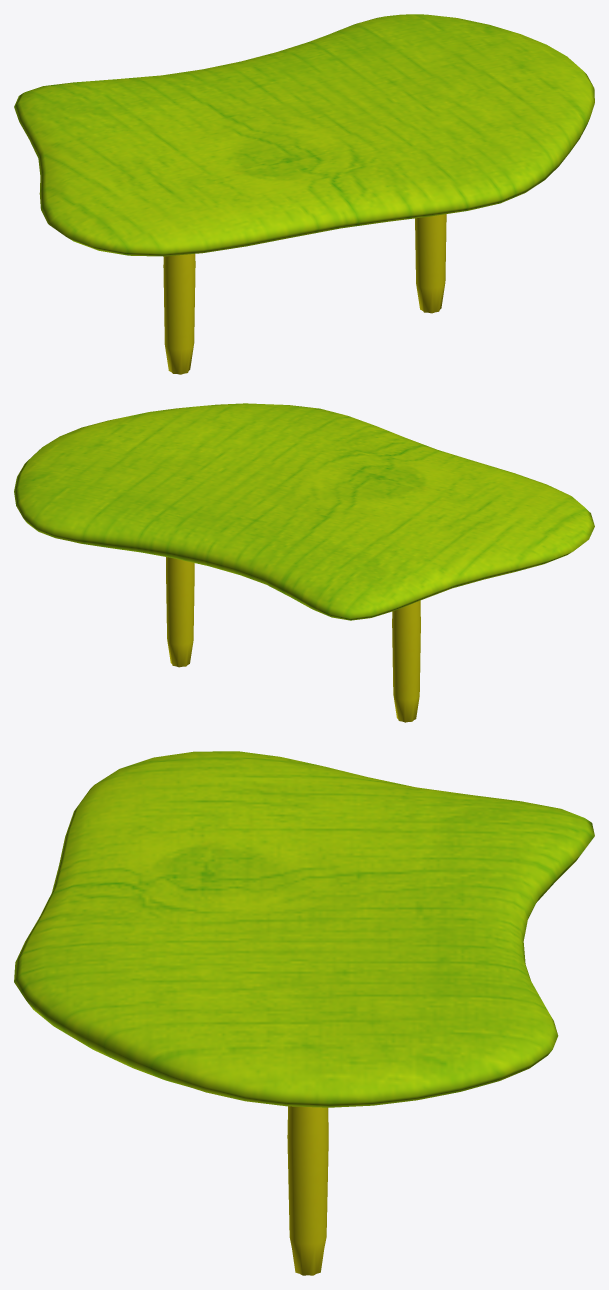
File: mesa.fbx
The picture shows the model from 3 angles, top to bottom: view 1: azimuth 30°, elevation 25°; view 2: azimuth 150°, elevation 25°; view 3: azimuth 270°, elevation 25°; orthographic projection. The views are drawn at different scales.
Visible parts, largest first — view 1: polySurface1627; view 2: polySurface1627; view 3: polySurface1627.
Part boxes in pixels (x1,y1,x2,y2): polySurface1627: [14, 14, 594, 374]; polySurface1627: [14, 403, 594, 722]; polySurface1627: [14, 751, 594, 1275].
Size of the model in its own units: 7.83 by 2.96 by 5.52.
